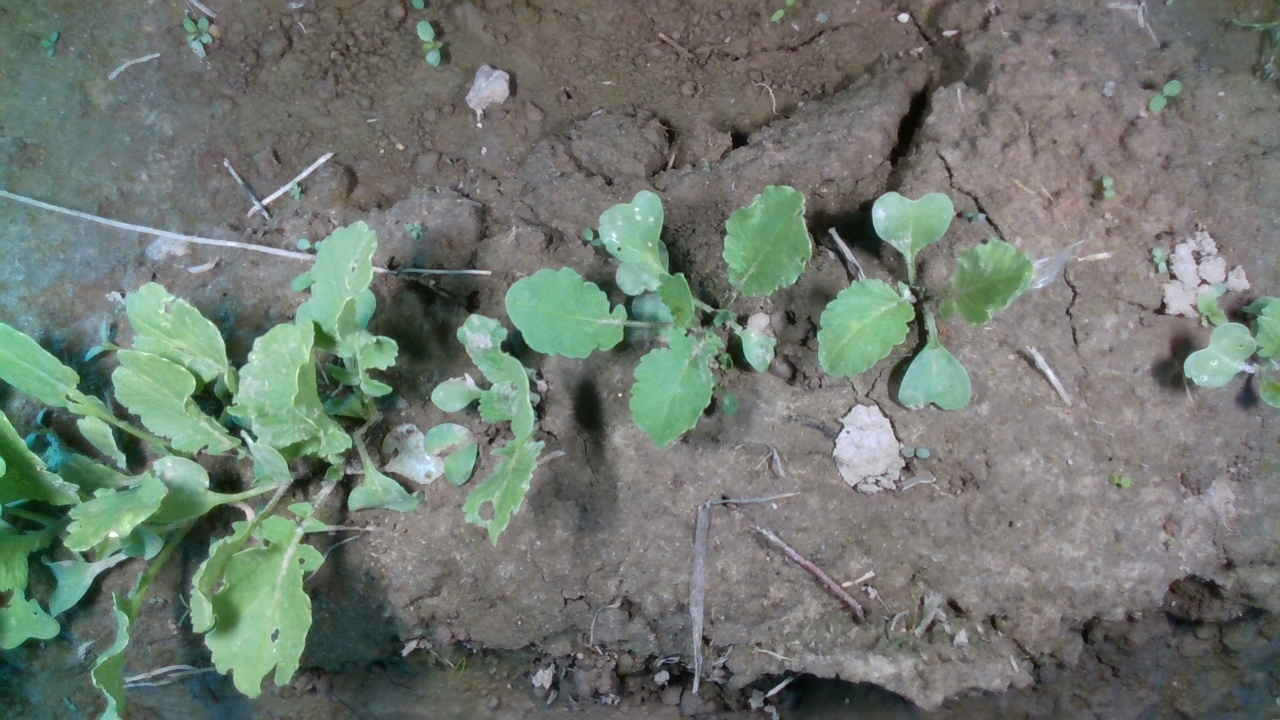weed: (176, 13, 228, 46), (1148, 77, 1184, 119), (411, 17, 439, 69), (33, 25, 66, 54), (1099, 170, 1124, 203), (1109, 472, 1136, 490)
